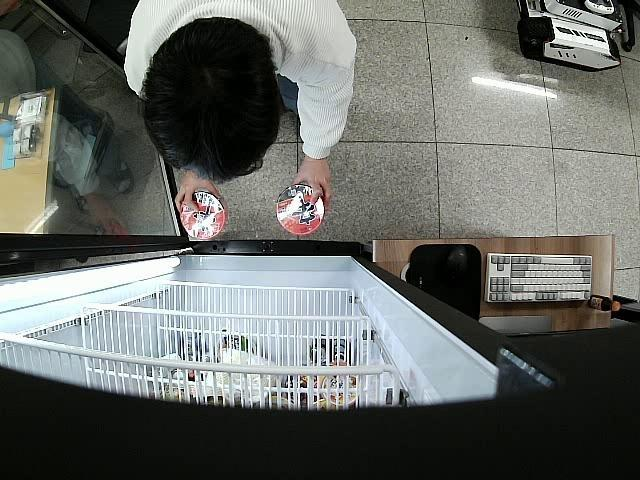01_ShinRamen_L: (277, 184, 326, 234), (180, 190, 227, 241)
